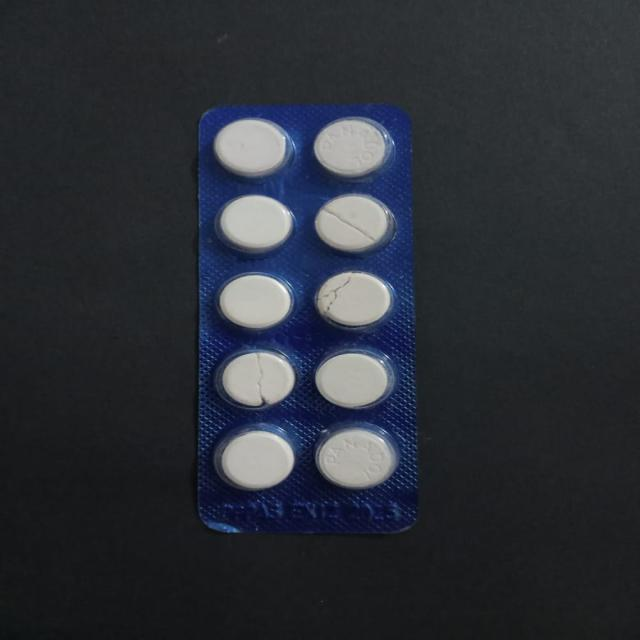defect: (214, 349, 298, 411), (314, 193, 395, 256), (312, 271, 394, 330)
